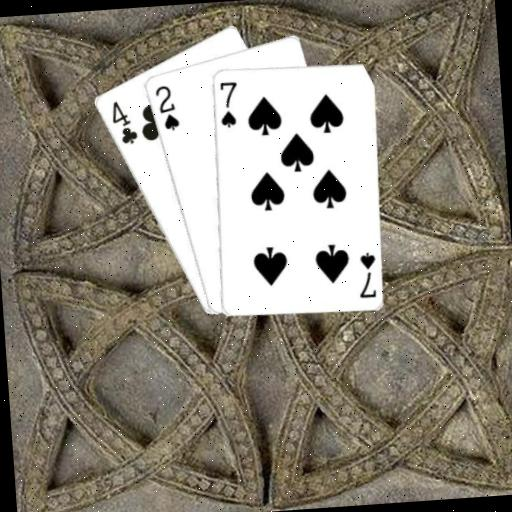2S: (151, 81, 181, 133)
4C: (107, 96, 139, 147)
7S: (215, 78, 241, 129), (354, 249, 379, 300)
